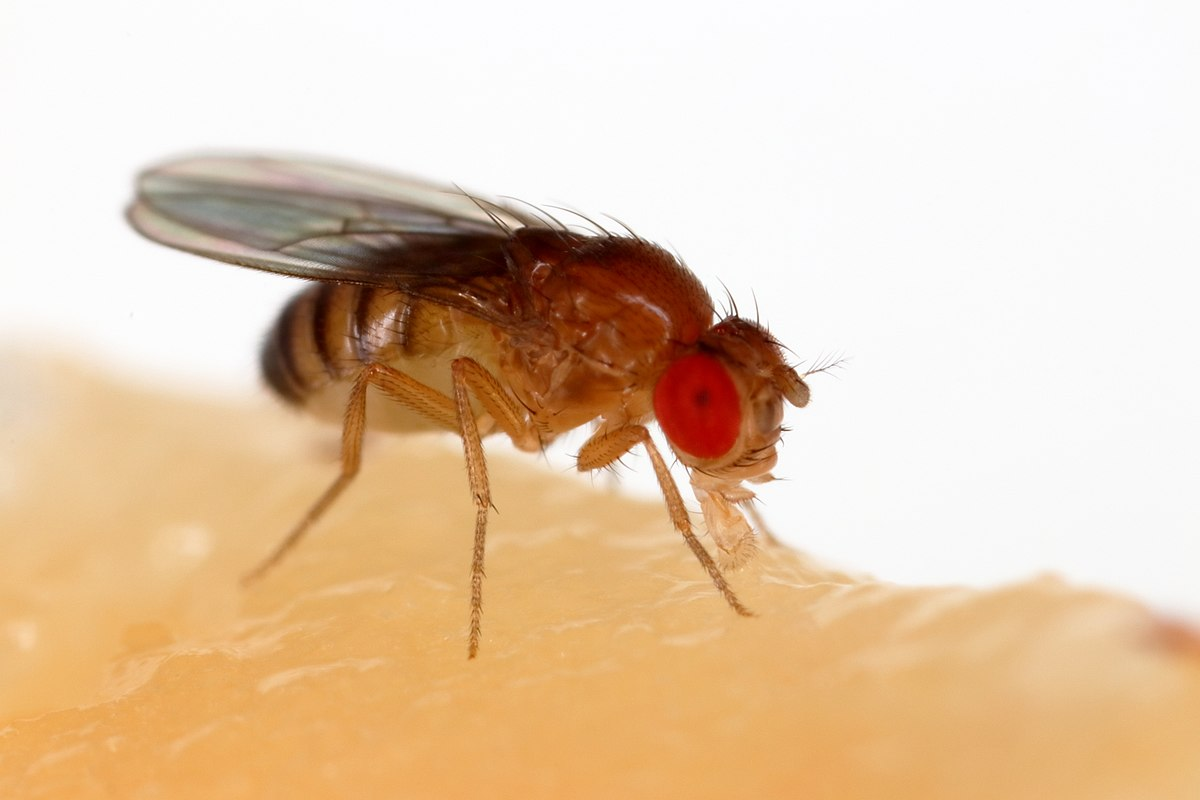Fruit fly: (153, 121, 838, 632)
